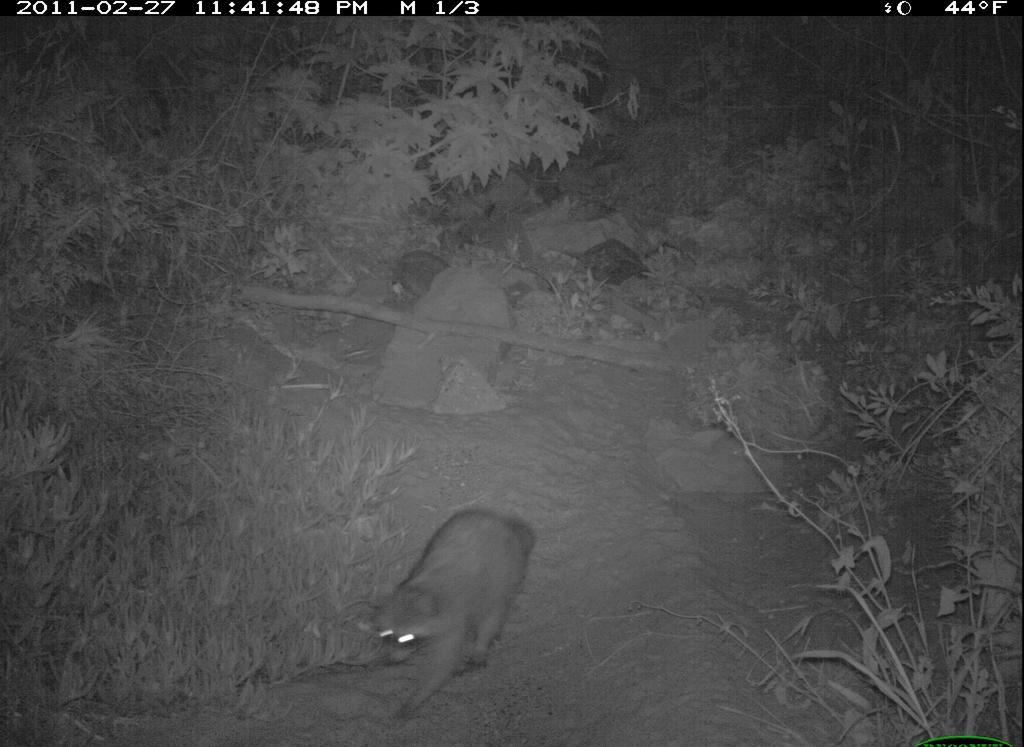raccoon: (361, 495, 562, 727)
